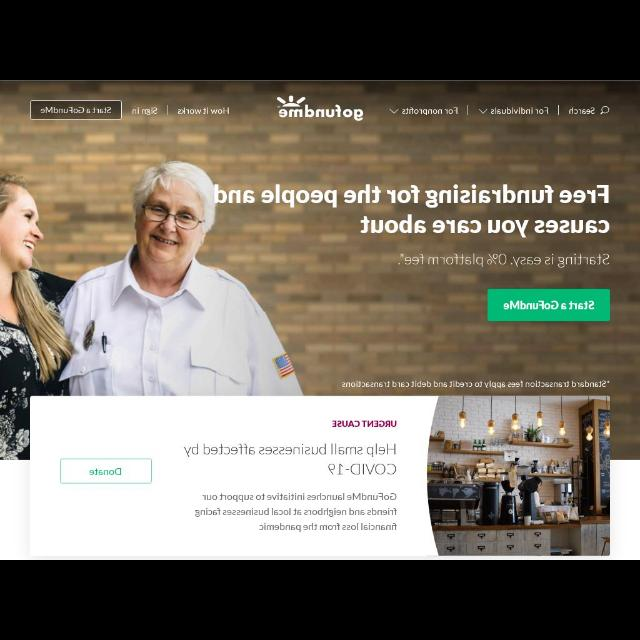backgroundimage: (1, 81, 639, 459)
icon: (599, 106, 609, 116), (389, 110, 398, 114)
image: (426, 396, 610, 554), (276, 95, 364, 122)
spinner: (479, 107, 549, 115)
text: (212, 185, 610, 239), (196, 493, 397, 533), (184, 443, 396, 475), (398, 252, 610, 268), (342, 379, 610, 388), (502, 300, 596, 310), (40, 106, 111, 114), (332, 420, 398, 428), (402, 108, 458, 116), (177, 107, 229, 115), (491, 108, 549, 114), (90, 468, 122, 476), (132, 107, 156, 115), (569, 108, 595, 114)
textbutton: (487, 288, 611, 322), (60, 459, 150, 485), (30, 100, 122, 120)
